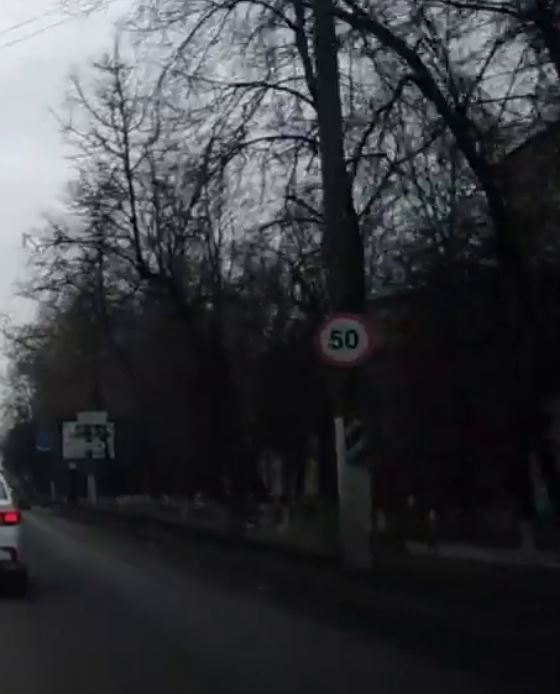50 Km Hiz Siniri: (314, 315, 377, 367)
